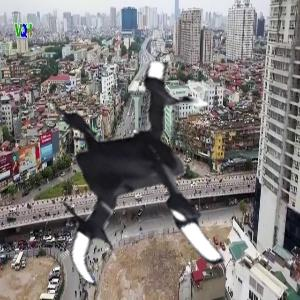drone: (7, 37, 269, 299)
